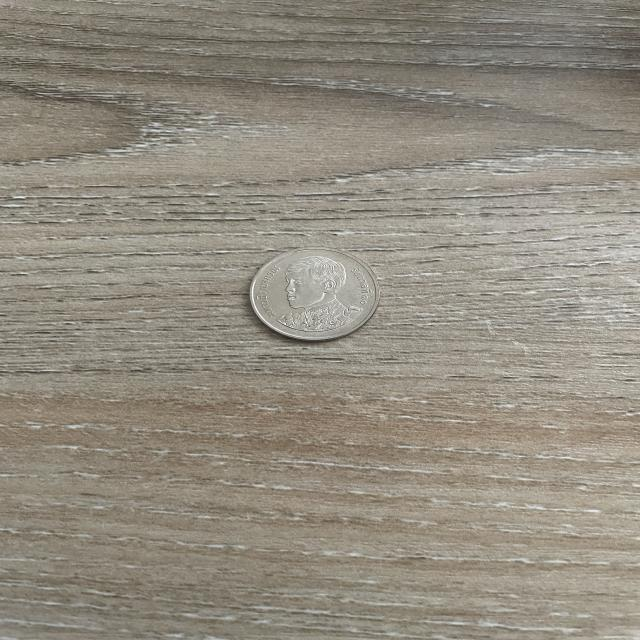1 Bath: (243, 239, 393, 352)
